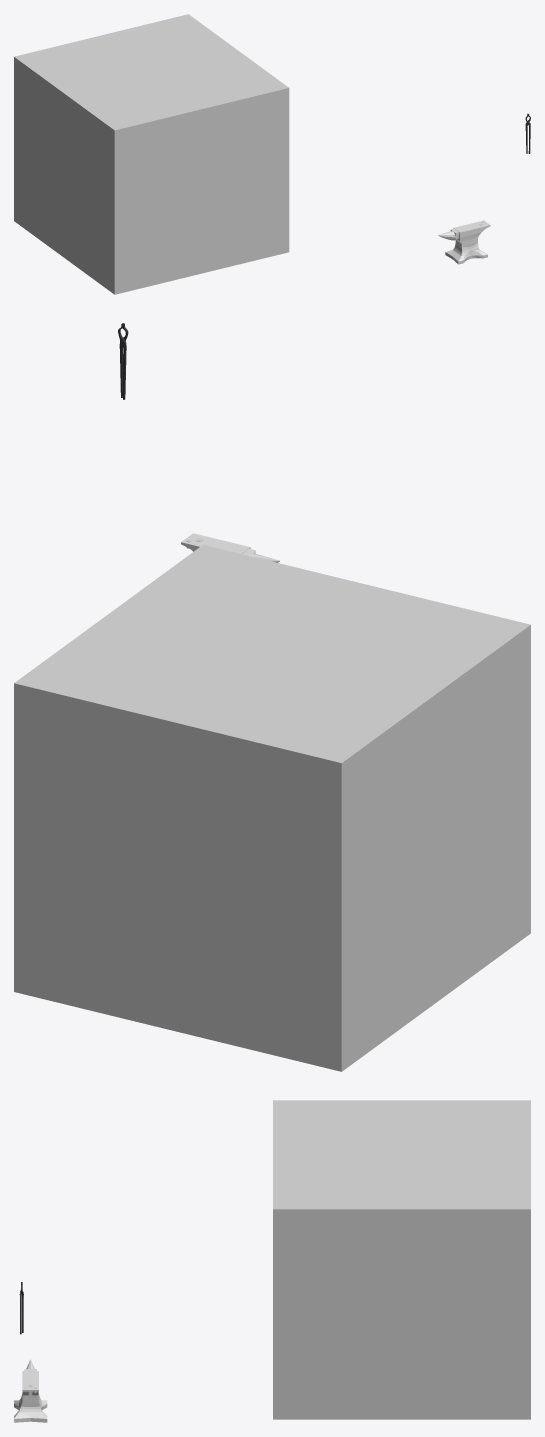
File: tong1.dae
The picture shows the model from 3 angles, top to bottom: view 1: azimuth 30°, elevation 25°; view 2: azimuth 150°, elevation 25°; view 3: azimuth 270°, elevation 25°; orthographic projection. The views are drawn at different scales.
Parts seen in each view (by area): view 1: Cube_004, Cube_002; view 2: Cube_004, Cube_002; view 3: Cube_004, Cube_002.
Boxes of the visible parts, box(x1,y1,x2,y2) form: Cube_004: box(14, 14, 289, 294); Cube_002: box(438, 220, 490, 264); Cube_004: box(14, 544, 530, 1071); Cube_002: box(181, 533, 279, 562); Cube_004: box(273, 1100, 530, 1419); Cube_002: box(14, 1359, 47, 1422).
Bounding box in the file's own units: 3.64 × 4.01 × 1.93.
Materials: 1 (1 with a texture image).
